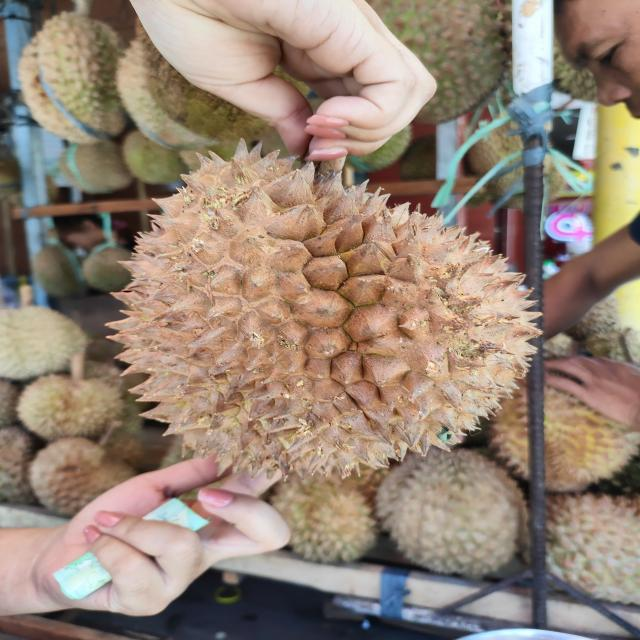mature: (100, 137, 543, 479)
